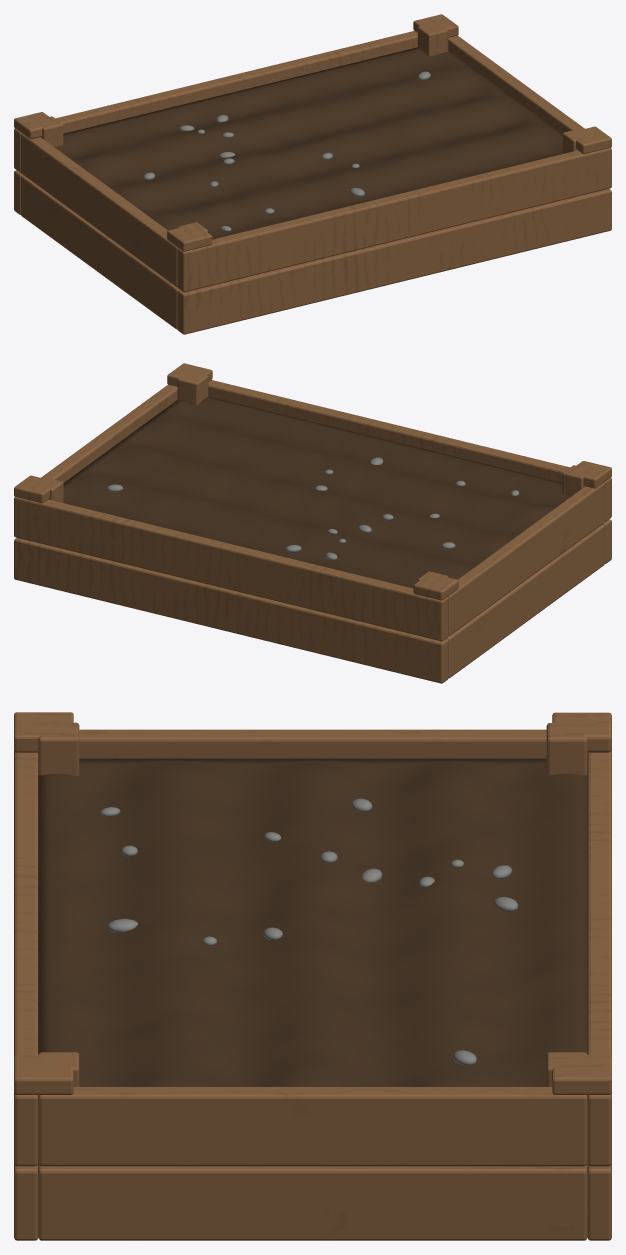
File: huerto finca.fbx
3 renders of one model, top to bottom at view 1: azimuth 30°, elevation 25°; view 2: azimuth 150°, elevation 25°; view 3: azimuth 270°, elevation 25°, orthographic. The views are drawn at different scales.
Parts seen in each view (by area): view 1: Tierra, Tabla_frontal_2, Tabla_frontal_1, Tabla_lateral_izq_2, Tabla_lateral_izq_1, Tabla_posterior_2, Tabla_lateral_der_2, Remate_tras_der, Poste_tras_izq, Remate_del_der, Remate_del_izq; view 2: Tierra, Tabla_posterior_2, Tabla_posterior_1, Tabla_lateral_izq_2, Tabla_lateral_izq_1, Tabla_frontal_2, Tabla_lateral_der_2, Remate_del_der, Remate_del_izq, Remate_tras_der, Poste_tras_izq; view 3: Tierra, Tabla_lateral_der_2, Tabla_lateral_der_1, Tabla_lateral_izq_2, Tabla_posterior_2, Tabla_frontal_2, Remate_del_izq, Poste_tras_izq, Remate_del_der, Remate_tras_der, Tabla_frontal_1, Tabla_posterior_1.
Part boxes in pixels (x1,y1,x2,y2): Tierra: (54, 47, 562, 239); Tabla_frontal_2: (177, 148, 611, 292); Tabla_frontal_1: (177, 189, 611, 334); Tabla_lateral_izq_2: (21, 133, 177, 286); Tabla_lateral_izq_1: (21, 175, 179, 329); Tabla_posterior_2: (14, 31, 417, 172); Tabla_lateral_der_2: (448, 35, 584, 133); Remate_tras_der: (413, 14, 458, 56); Poste_tras_izq: (14, 112, 63, 146); Remate_del_der: (562, 126, 611, 154); Remate_del_izq: (167, 222, 212, 251); Tierra: (63, 396, 570, 588); Tabla_posterior_2: (14, 497, 448, 641); Tabla_posterior_1: (14, 538, 448, 683); Tabla_lateral_izq_2: (448, 483, 604, 635); Tabla_lateral_izq_1: (446, 524, 604, 678); Tabla_frontal_2: (208, 380, 611, 521); Tabla_lateral_der_2: (41, 384, 177, 482); Remate_del_der: (167, 363, 212, 405); Remate_del_izq: (562, 461, 611, 496); Remate_tras_der: (14, 475, 63, 503); Poste_tras_izq: (413, 571, 458, 600); Tierra: (38, 758, 587, 1163); Tabla_lateral_der_2: (38, 1087, 587, 1166); Tabla_lateral_der_1: (38, 1164, 587, 1240); Tabla_lateral_izq_2: (79, 729, 546, 758); Tabla_posterior_2: (587, 750, 611, 1166); Tabla_frontal_2: (14, 751, 38, 1166); Remate_del_izq: (14, 712, 79, 776); Poste_tras_izq: (546, 712, 611, 775); Remate_del_der: (14, 1052, 79, 1094); Remate_tras_der: (546, 1052, 611, 1094); Tabla_frontal_1: (14, 1164, 38, 1240); Tabla_posterior_1: (587, 1164, 611, 1240).
Bounding box in the file's own units: 160 × 33.1 × 110.
3 materials, 3 textured.
